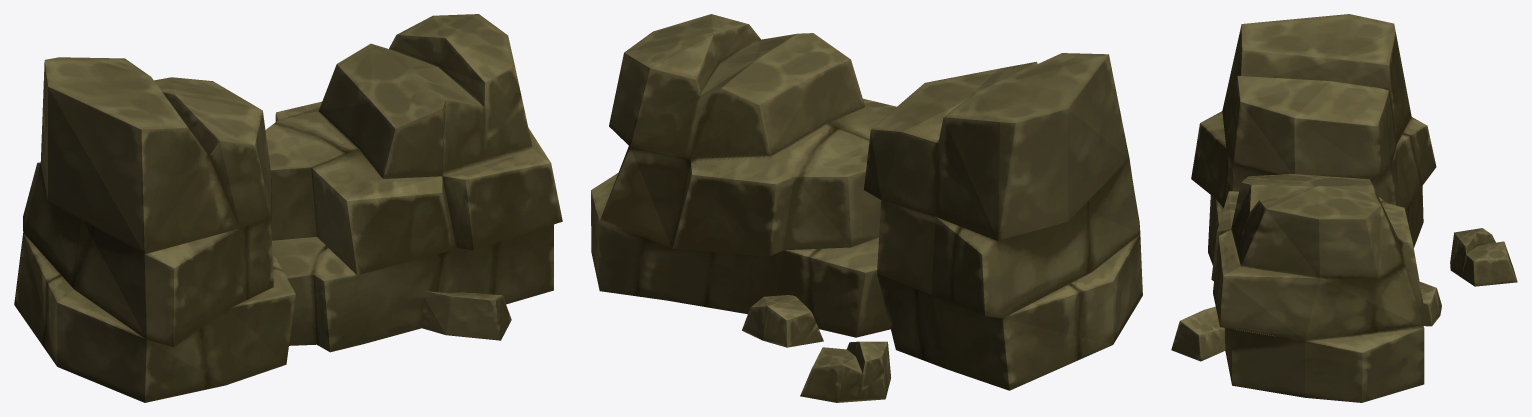
The model's file is rockwall_straight_05.fbx.
The picture shows the model from 3 angles, left to right: view 1: azimuth 30°, elevation 25°; view 2: azimuth 150°, elevation 25°; view 3: azimuth 270°, elevation 25°; orthographic projection. The views are drawn at different scales.
Parts seen in each view (by area): view 1: obj0.154; view 2: obj0.154; view 3: obj0.154.
Boxes of the visible parts, <box> form: obj0.154: <box>14,14,562,402</box>; obj0.154: <box>591,14,1142,402</box>; obj0.154: <box>1171,14,1517,402</box>.
Size of the model in its own units: 4.82 by 2.37 by 3.66.
